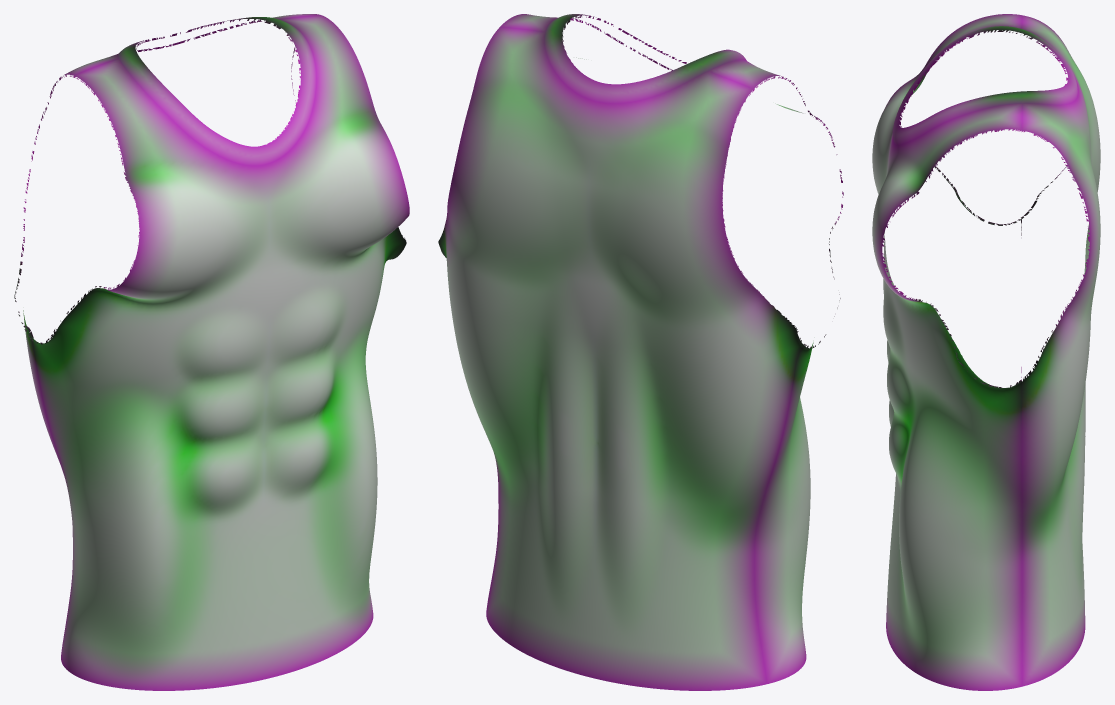
File: muscletank.glb
3 views of the same model, side by side, from view 1: azimuth 30°, elevation 25°; view 2: azimuth 150°, elevation 25°; view 3: azimuth 270°, elevation 25° (orthographic). The views are drawn at different scales.
Parts seen in each view (by area): view 1: front, collar, back; view 2: back, front, collar; view 3: front, back, collar.
Boxes of the visible parts, <box> form: front: <box>23,15,409,690</box>; collar: <box>117,17,316,165</box>; back: <box>14,14,320,619</box>; back: <box>438,27,805,690</box>; front: <box>486,14,843,683</box>; collar: <box>544,14,746,103</box>; front: <box>872,14,1021,690</box>; back: <box>1021,15,1100,686</box>; collar: <box>892,26,1077,145</box>.
Size of the model in its own units: 0.4024 by 0.6484 by 0.2375.
